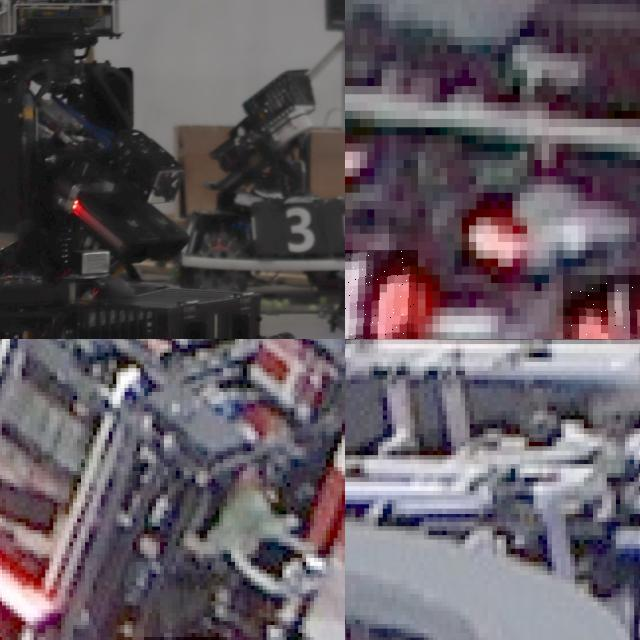R4: (345, 250, 417, 339), (563, 274, 640, 339)
